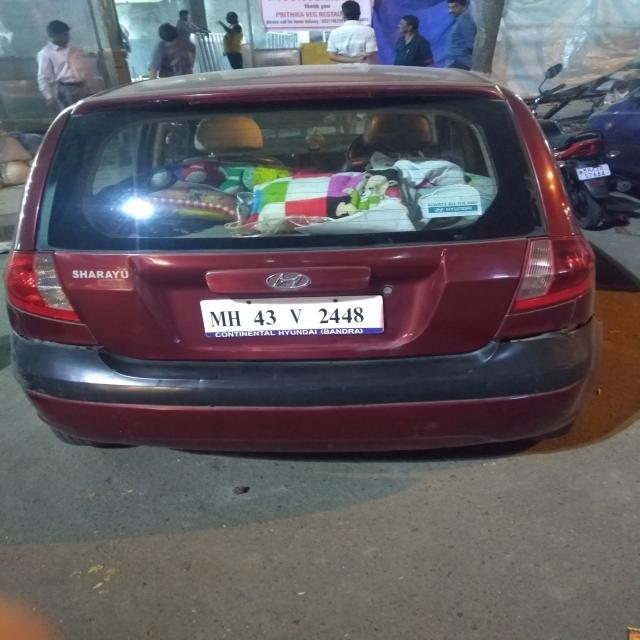Number-Plate: (203, 297, 384, 332)
